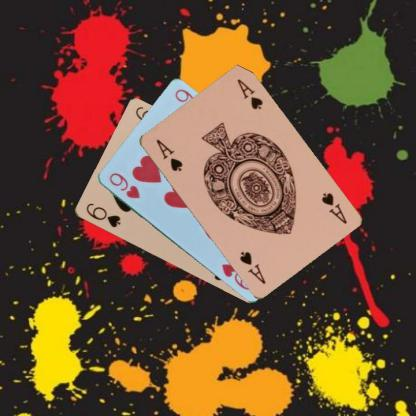6s: (83, 200, 121, 229)
9h: (106, 170, 141, 200)
As: (153, 136, 184, 173), (318, 190, 348, 225)
